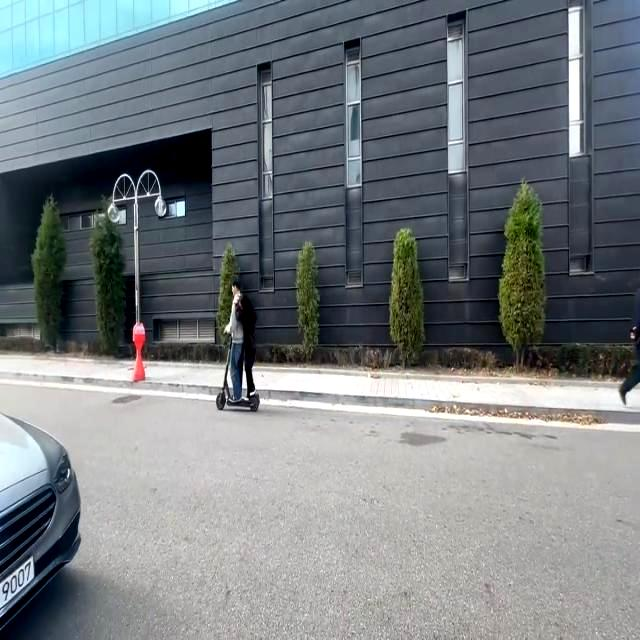bare_head: (237, 295, 251, 310), (229, 280, 241, 297)
human: (223, 281, 246, 405), (236, 294, 257, 398)
kickboard: (210, 388, 263, 414)
